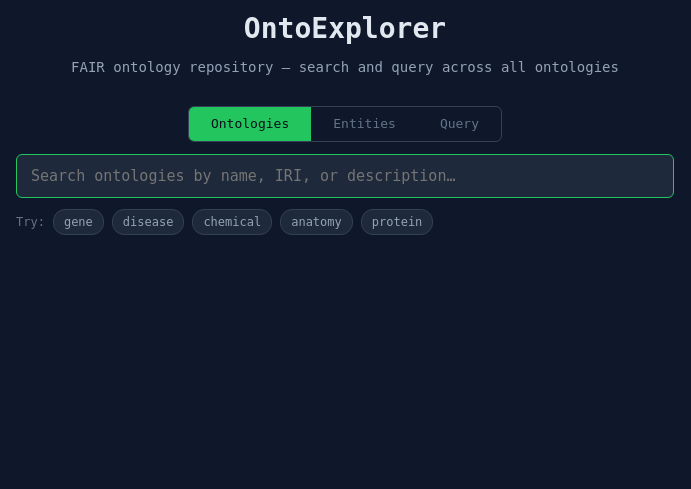
Test: Home semantic results › shows "Semantically similar" section when semantic_results is non-empty
// The entity (keyword) search is no longer the default tab — switch to it.
Click the button "Entities". click: (365, 124)
box: [311, 107, 418, 140]
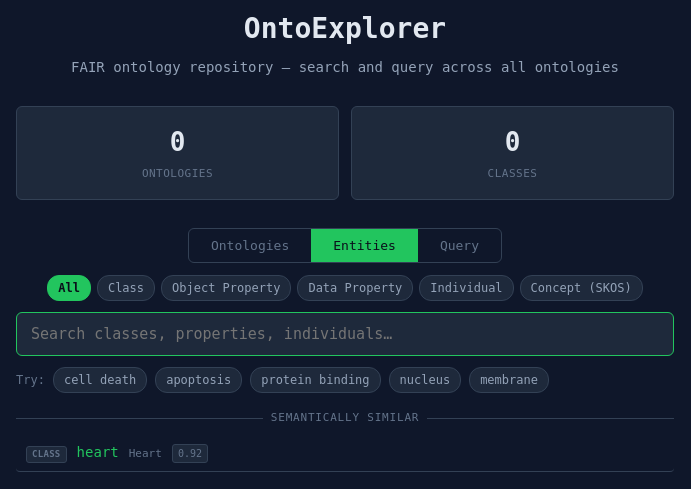
Now the text "Semantically similar" is shown, box [271, 411, 419, 424]
